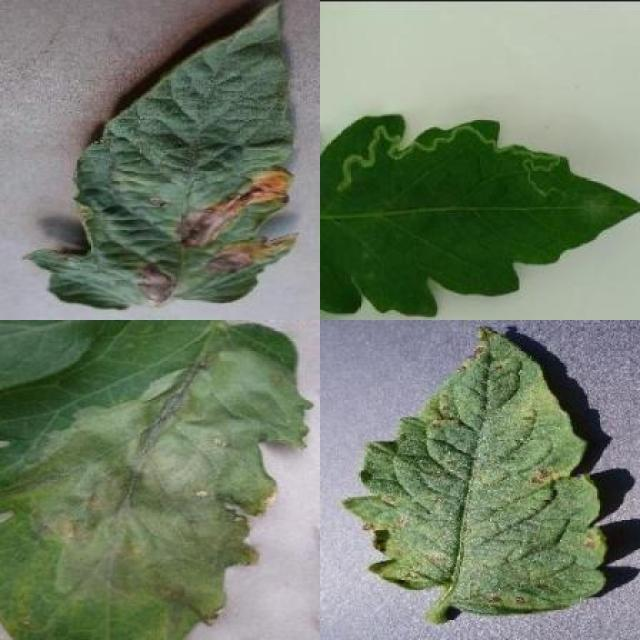Early Blight: (27, 0, 300, 310)
Late Blight: (0, 320, 314, 640)
Leaf Miner: (320, 110, 640, 316)
Septoria: (345, 324, 608, 616)
